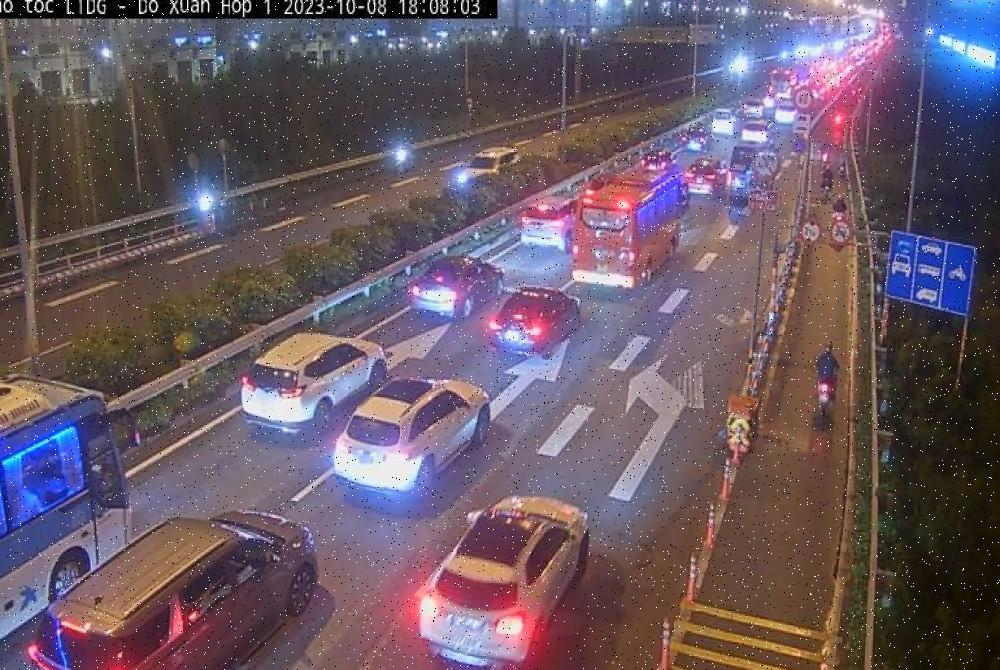bus: (0, 372, 131, 661), (574, 178, 686, 288)
car: (30, 508, 313, 670), (422, 493, 588, 670), (334, 373, 495, 497), (243, 334, 389, 438), (411, 253, 504, 326), (520, 196, 583, 258)
